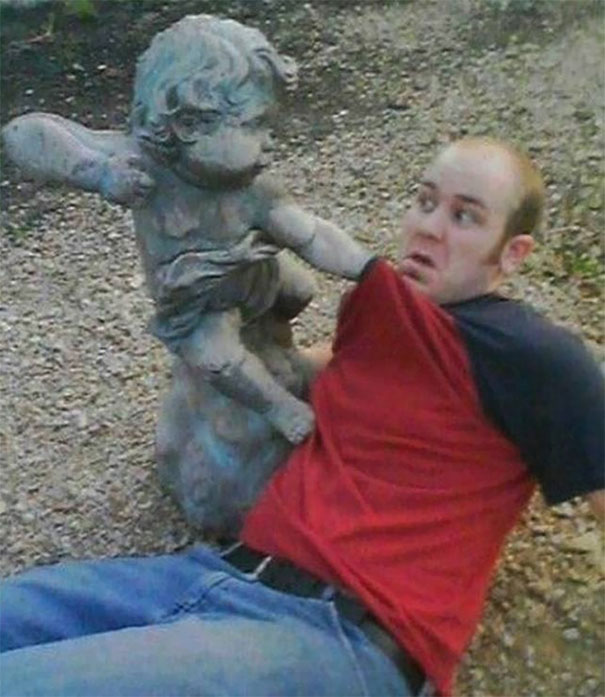person: (6, 129, 597, 697)
person-like: (1, 9, 379, 447)
